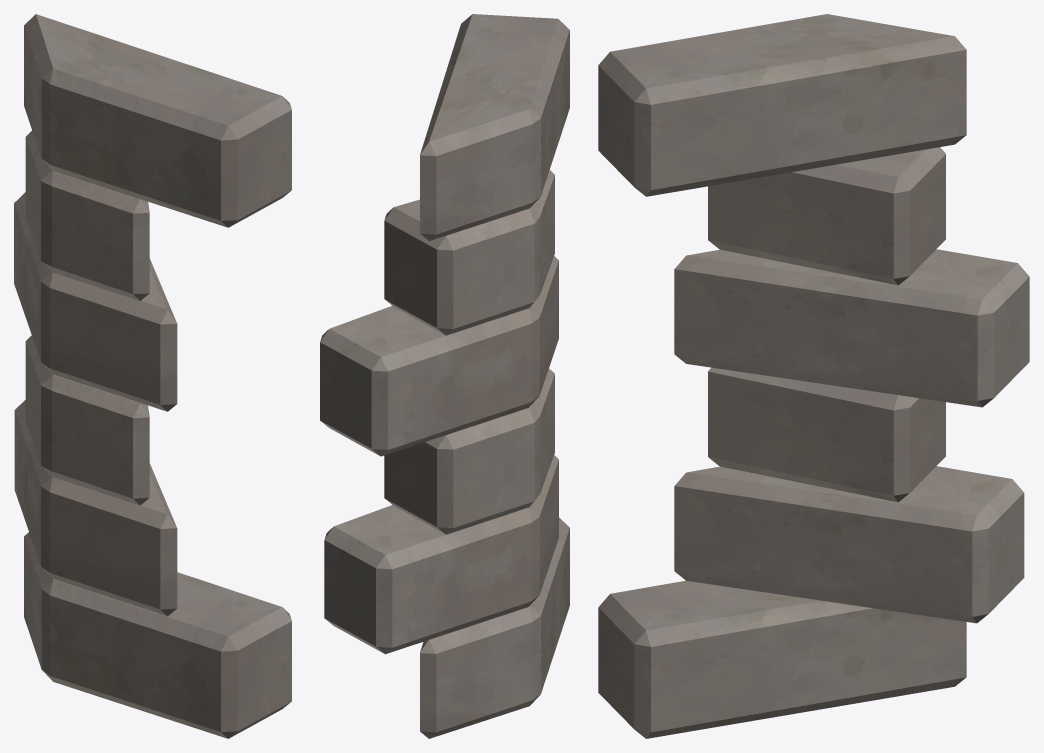
Rendered from SM_Corner_Big_Tower_S.fbx.
The picture shows the model from 3 angles, left to right: view 1: azimuth 30°, elevation 25°; view 2: azimuth 150°, elevation 25°; view 3: azimuth 270°, elevation 25°; orthographic projection. The views are drawn at different scales.
Visible parts, largest first — view 1: SM_Corner_Big_Tower_S_LOD0; view 2: SM_Corner_Big_Tower_S_LOD0; view 3: SM_Corner_Big_Tower_S_LOD0.
Part boxes in pixels (<box>): SM_Corner_Big_Tower_S_LOD0: <box>14,14,291,738</box>; SM_Corner_Big_Tower_S_LOD0: <box>320,14,569,738</box>; SM_Corner_Big_Tower_S_LOD0: <box>598,14,1029,738</box>.
Size of the model in its own units: 83.09 by 180 by 300.
1 material, 1 textured.
